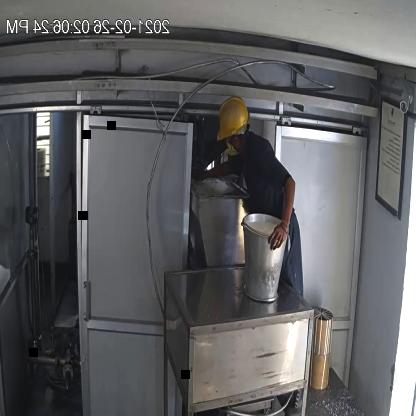helmet: (211, 88, 256, 146)
